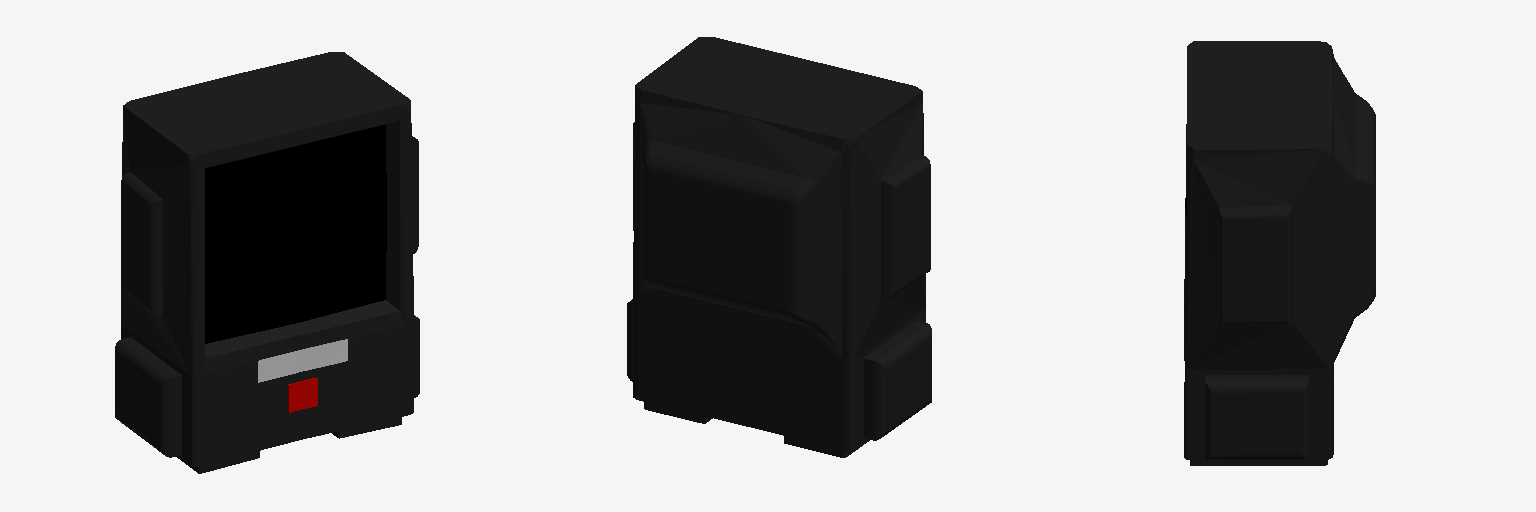
Rendered from monitor_model.obj.
3 renders of one model, left to right at view 1: azimuth 30°, elevation 25°; view 2: azimuth 150°, elevation 25°; view 3: azimuth 270°, elevation 25°, orthographic.
Visible parts, largest first — view 1: Monitor; view 2: Monitor; view 3: Monitor.
Part boxes in pixels (x1,y1,x2,y2): Monitor: (115,52,419,473); Monitor: (627,37,931,457); Monitor: (1184,41,1375,465).
Bounding box in the file's own units: 2.55 × 2.92 × 1.58.